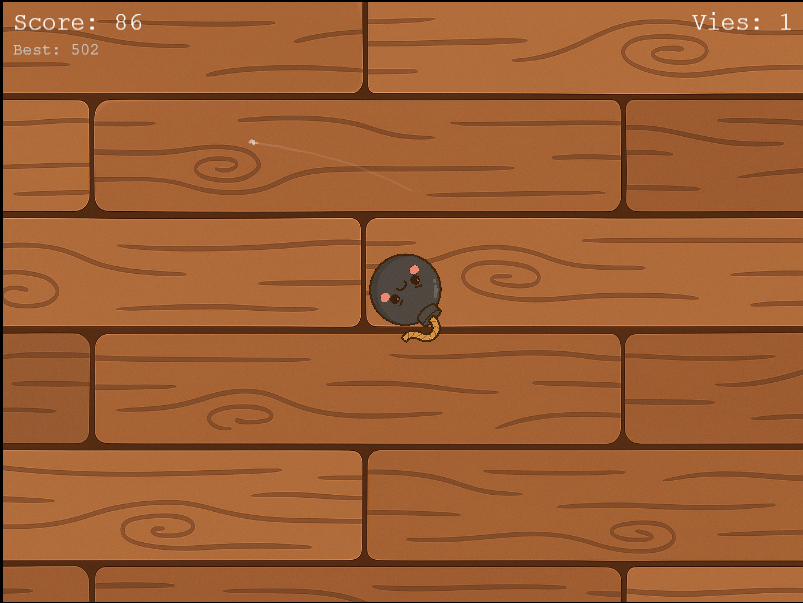bomb: (360, 249, 453, 353)
